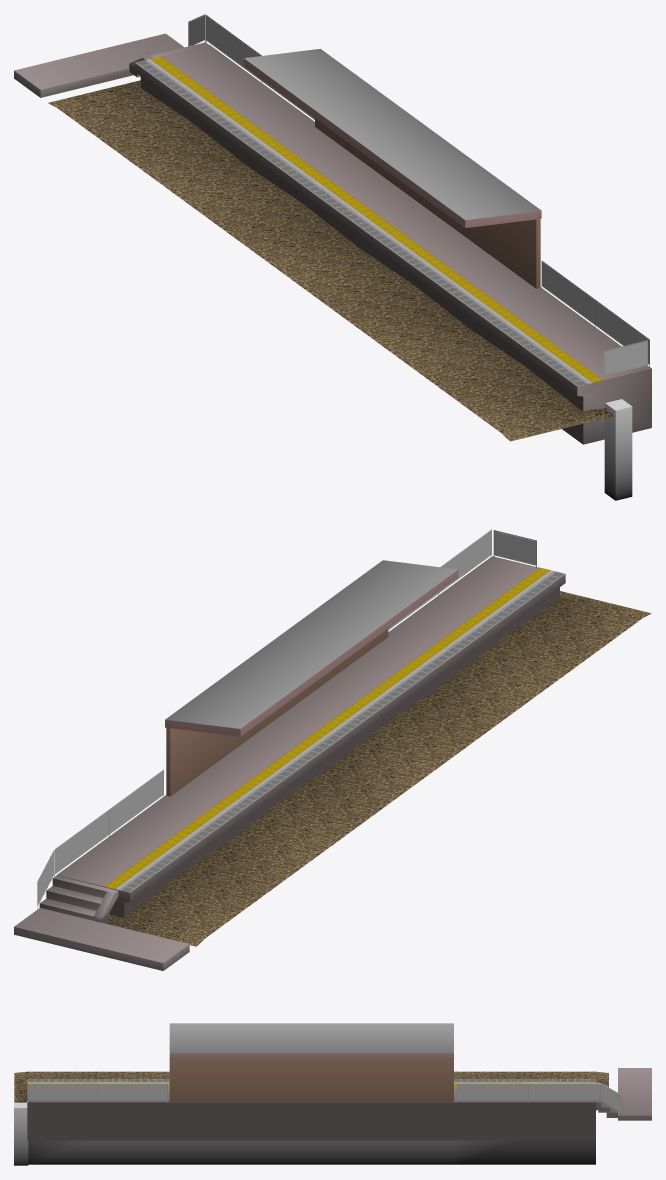
3 views of the same model, one above another, from view 1: azimuth 30°, elevation 25°; view 2: azimuth 150°, elevation 25°; view 3: azimuth 270°, elevation 25° (orthographic). The views are drawn at different scales.
Visible parts, largest first — view 1: Model, Joint_11, Joint_1111, Joint_1, Joint_11111; view 2: Model, Joint_11, Joint_1, Joint_1111, Joint_11111; view 3: Model, Joint_11, Joint_1, Joint_1111.
Boxes of the visible parts, bbox=[...] form: Model: bbox=[14, 33, 651, 500]; Joint_11: bbox=[244, 48, 541, 288]; Joint_1111: bbox=[541, 261, 649, 367]; Joint_1: bbox=[188, 14, 314, 119]; Joint_11111: bbox=[604, 340, 647, 378]; Model: bbox=[14, 556, 651, 970]; Joint_11: bbox=[165, 560, 458, 796]; Joint_1: bbox=[37, 769, 163, 909]; Joint_1111: bbox=[388, 529, 491, 630]; Joint_11111: bbox=[493, 530, 536, 568]; Model: bbox=[14, 1068, 651, 1165]; Joint_11: bbox=[169, 1023, 453, 1101]; Joint_1: bbox=[457, 1084, 622, 1114]; Joint_1111: bbox=[28, 1084, 167, 1102].
Size of the model in its own units: 19.89 by 24.84 by 112.
Materials: 16 (5 with a texture image).
